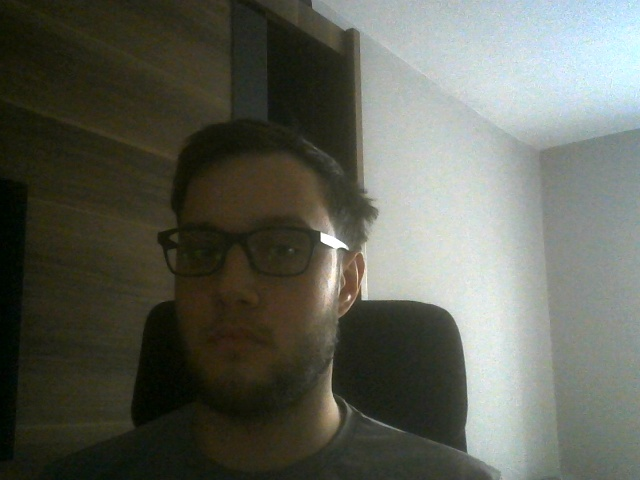neutral: (158, 122, 365, 413)
